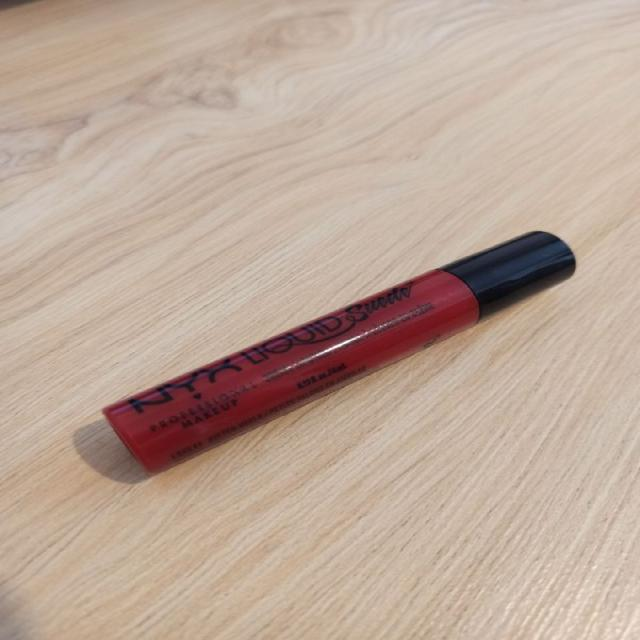lipstick: (100, 229, 575, 475)
